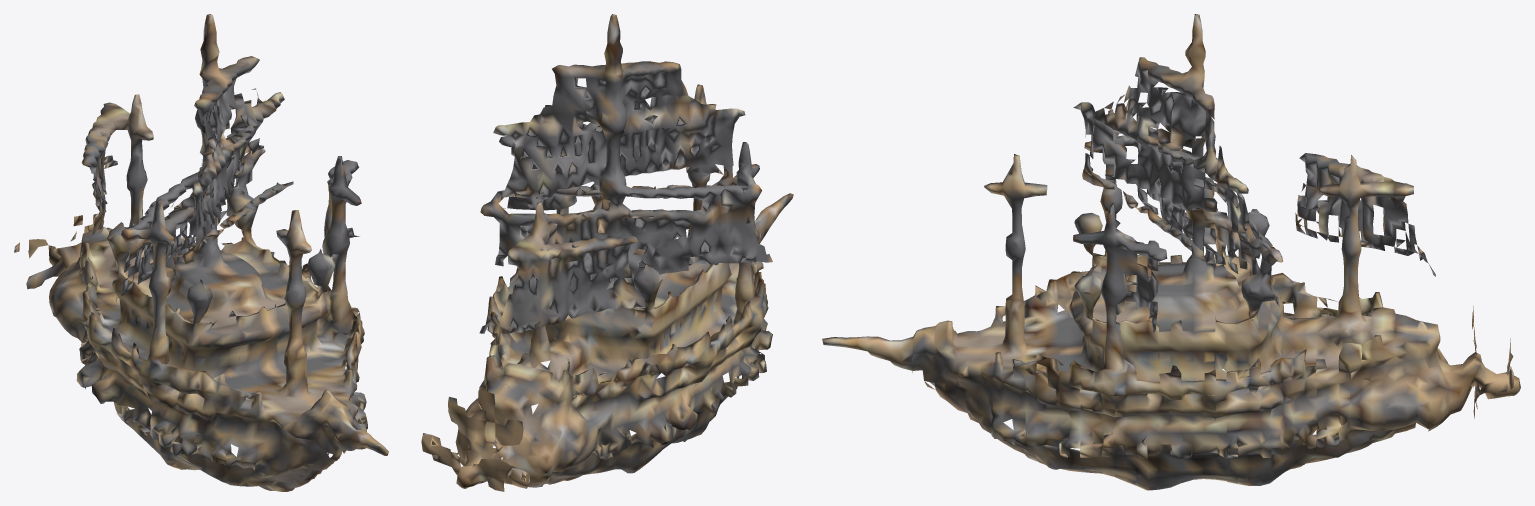
The model's file is mon3d_lo.glb.
3 renders of one model, left to right at view 1: azimuth 30°, elevation 25°; view 2: azimuth 150°, elevation 25°; view 3: azimuth 270°, elevation 25°, orthographic. The views are drawn at different scales.
Bounding box in the file's own units: 0.8712 × 1.41 × 1.94.
